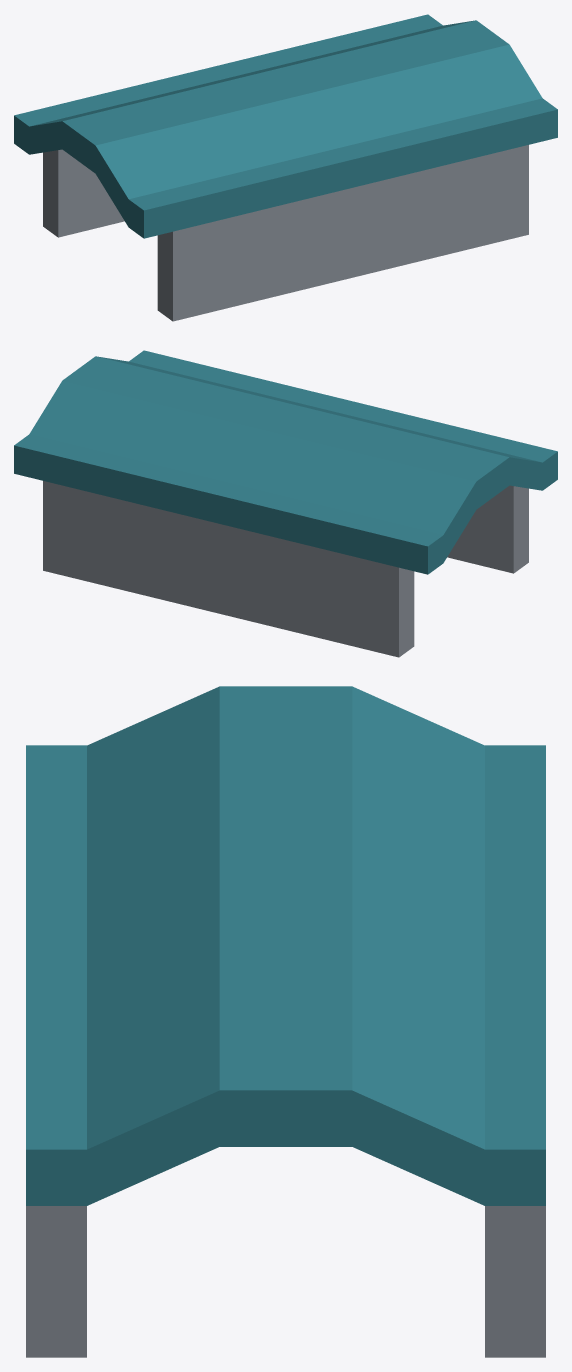
File: chepeng_01.FBX
3 views of the same model, one above another, from view 1: azimuth 30°, elevation 25°; view 2: azimuth 150°, elevation 25°; view 3: azimuth 270°, elevation 25° (orthographic). The views are drawn at different scales.
Parts seen in each view (by area): view 1: chepeng_01; view 2: chepeng_01; view 3: chepeng_01.
Boxes of the visible parts, <box> form: chepeng_01: <box>14,14,557,321</box>; chepeng_01: <box>14,350,557,657</box>; chepeng_01: <box>26,686,545,1357</box>.
Bounding box in the file's own units: 126 × 42.81 × 68.28.
